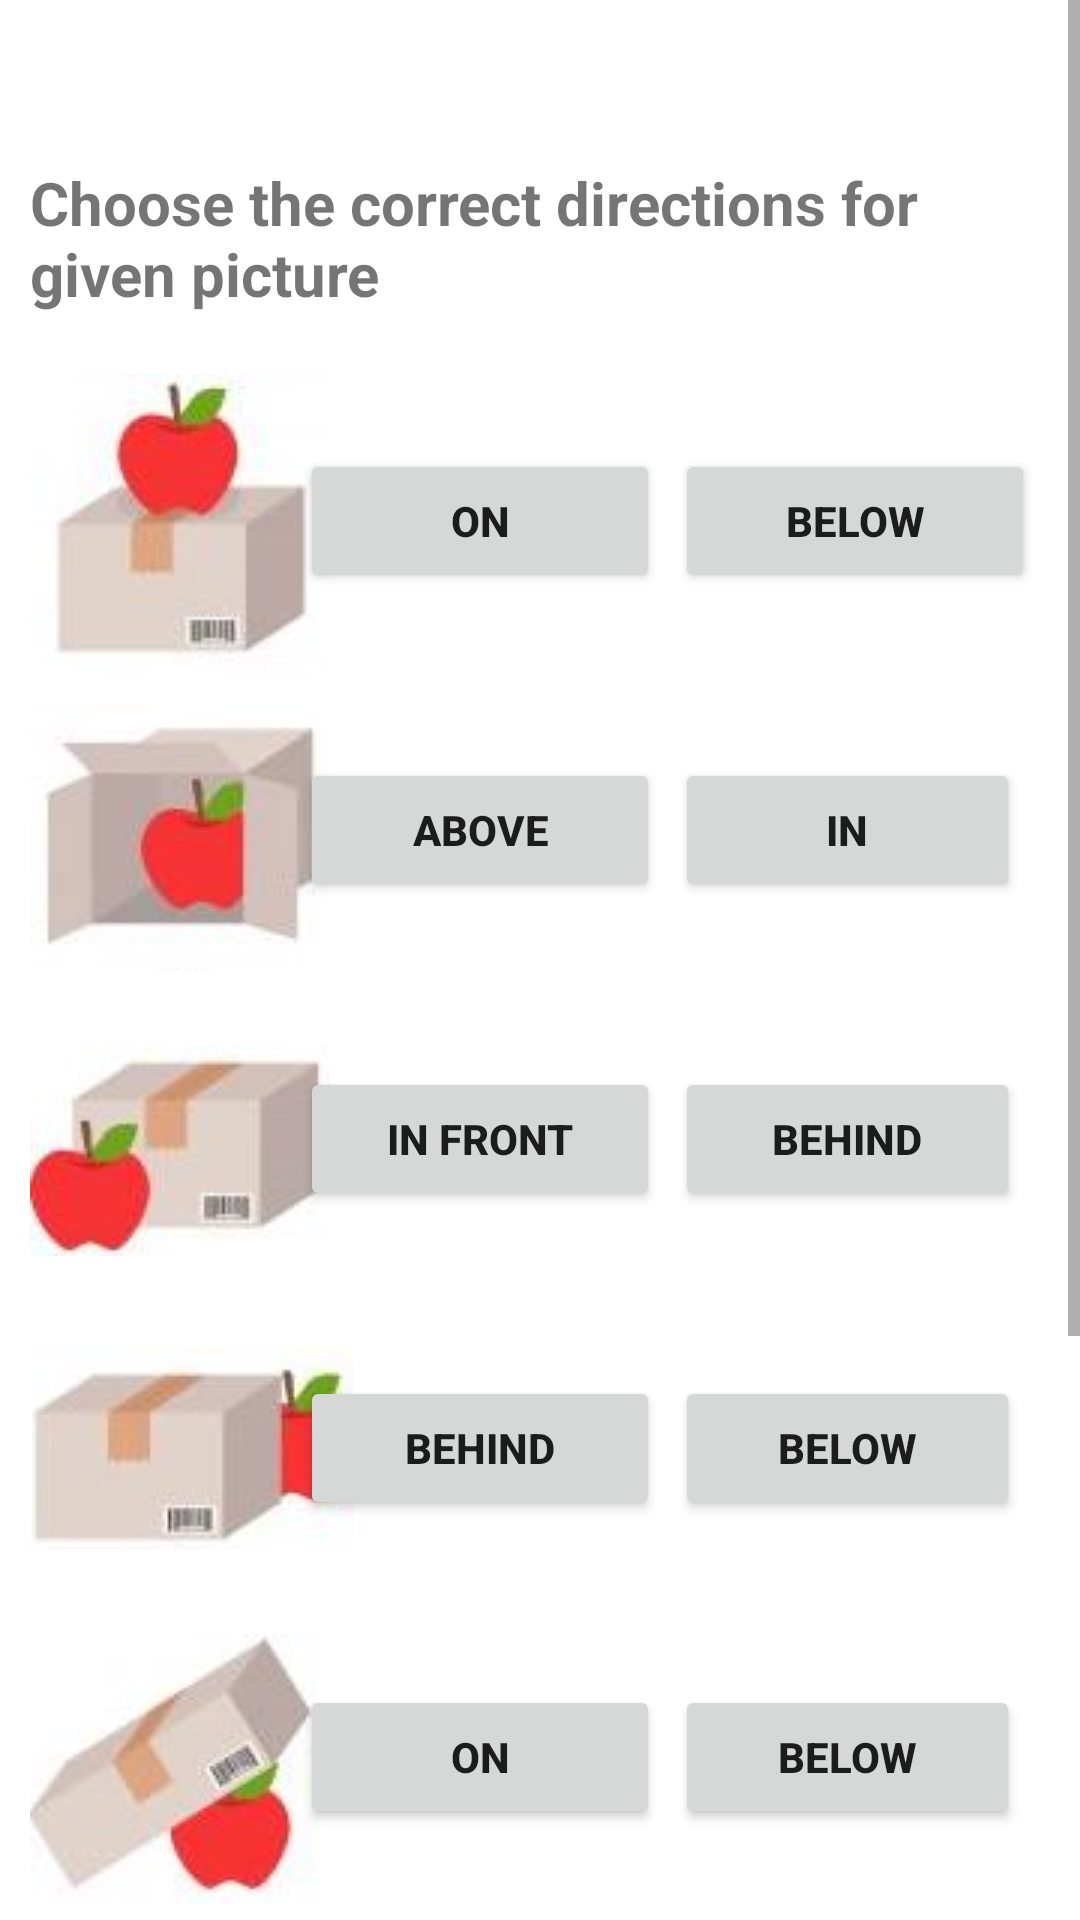

Named icons in this screenshot (1080 × 1920) and their bounding boxes, bbox=[x1, y1, x2, y2]:
below: bbox=[30, 1637, 330, 1891]
